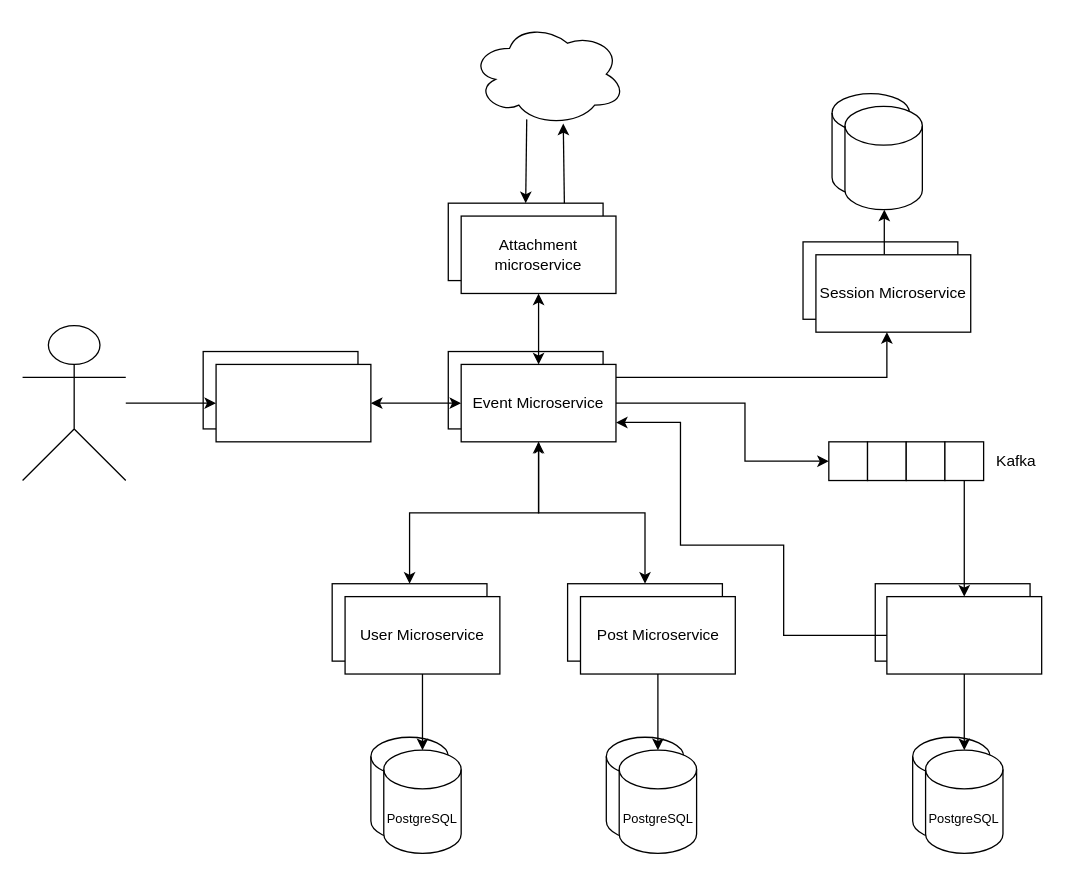
Image size: 1071x876. Some labels were removed from this diagram. The box of each missing label's shape, as (x1, y1, x2, y2) in pixels:
Amazon S3: (470, 21, 626, 126)
Likes Microservice: (886, 595, 1042, 674)
Nginx: (215, 363, 371, 442)
Redis: (844, 105, 922, 210)
